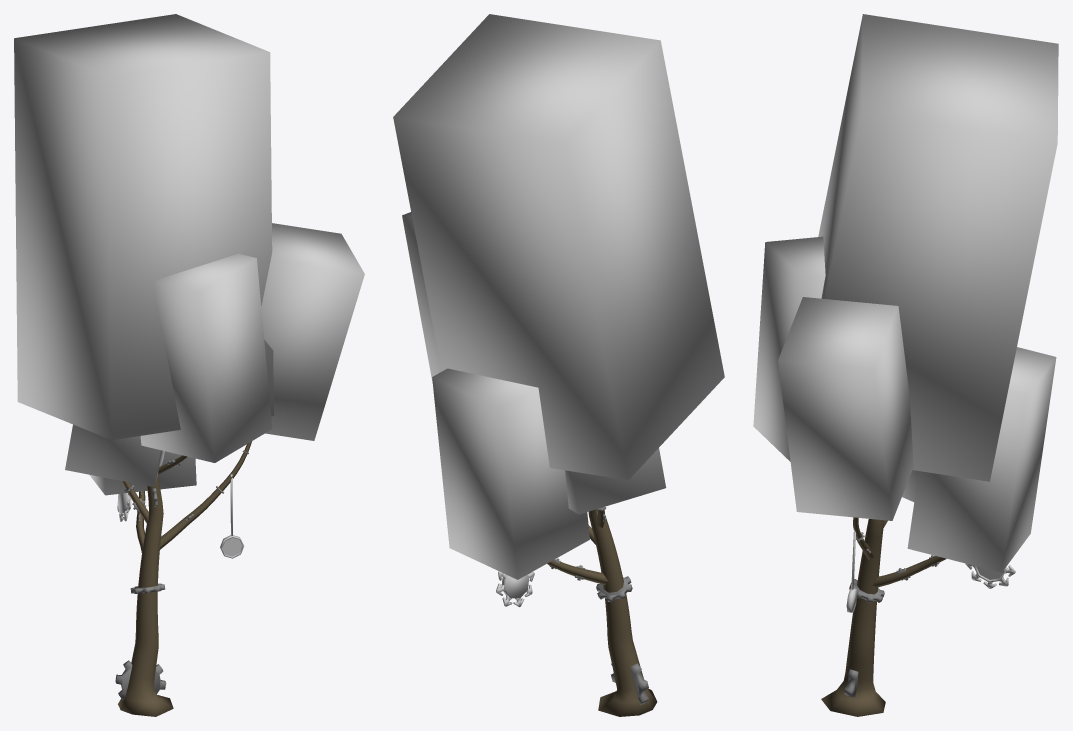
Rendered from sm_tree_clockwork_02_LOD0.fbx.
3 renders of one model, left to right at view 1: azimuth 30°, elevation 25°; view 2: azimuth 150°, elevation 25°; view 3: azimuth 270°, elevation 25°, orthographic. The views are drawn at different scales.
Parts seen in each view (by area): view 1: sm_tree_clockwork_02_LOD0; view 2: sm_tree_clockwork_02_LOD0; view 3: sm_tree_clockwork_02_LOD0.
Part boxes in pixels (x1,y1,x2,y2): sm_tree_clockwork_02_LOD0: (14, 14, 364, 716); sm_tree_clockwork_02_LOD0: (393, 14, 724, 716); sm_tree_clockwork_02_LOD0: (753, 14, 1058, 716).
Bounding box in the file's own units: 6.62 × 6.15 × 14.97.
